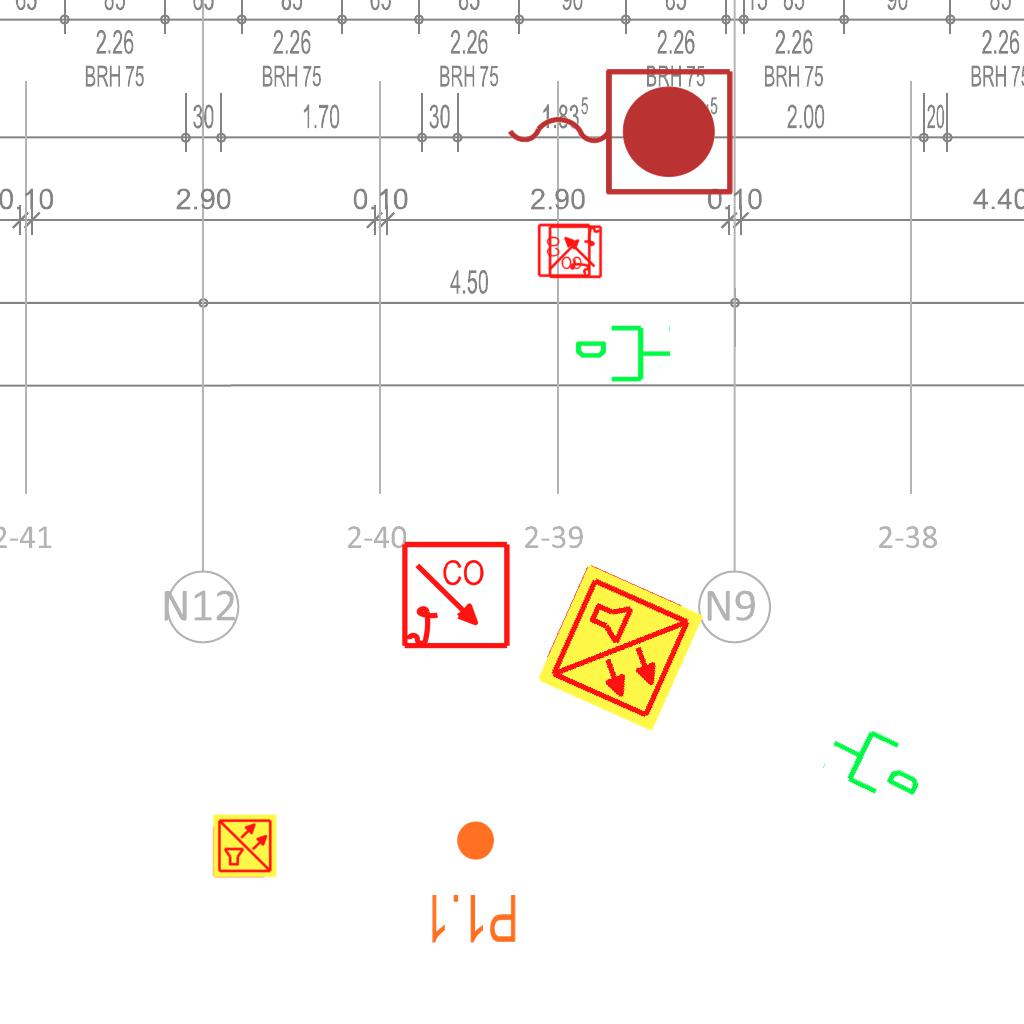Datenanschluss_einfach: (817, 709, 938, 815), (573, 321, 673, 390)
Downlight_LED_Einbauleuchten_Flur: (426, 818, 519, 946)
OKW_Multisensormelder_(Kombination_optischer_Rauch-Kahlenmonoxid_Waerme-Melder): (532, 560, 708, 736), (212, 813, 278, 879)
ROA_Rauchmelder_optisch_mit_Signalgeber_(Sockelsirene): (400, 540, 513, 653), (537, 222, 593, 278), (547, 223, 603, 279)
Zugtaster: (497, 58, 741, 202)
